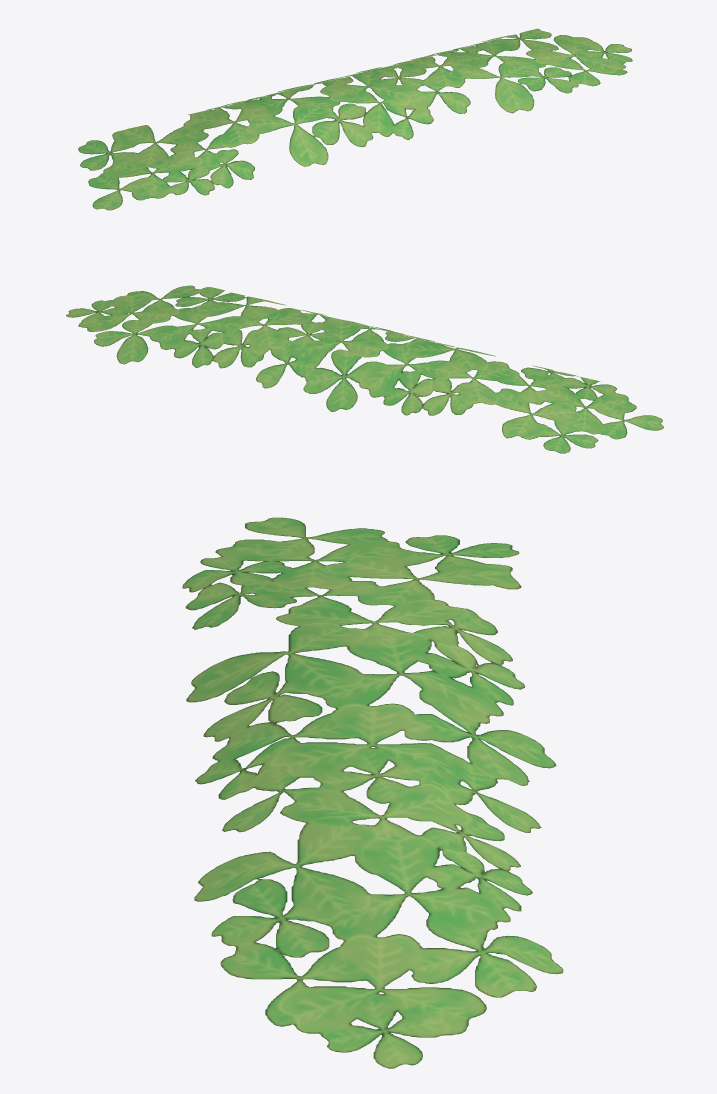
Rendered from LeafSetD_17.fbx.
3 renders of one model, top to bottom at view 1: azimuth 30°, elevation 25°; view 2: azimuth 150°, elevation 25°; view 3: azimuth 270°, elevation 25°, orthographic. The views are drawn at different scales.
Visible parts, largest first — view 1: LeafSetD_17; view 2: LeafSetD_17; view 3: LeafSetD_17.
Part boxes in pixels (x1,y1,x2,y2): LeafSetD_17: (78, 28, 632, 210); LeafSetD_17: (66, 285, 663, 453); LeafSetD_17: (182, 517, 563, 1068).
Size of the model in its own units: 1.74 by 0.0938 by 0.5713.
